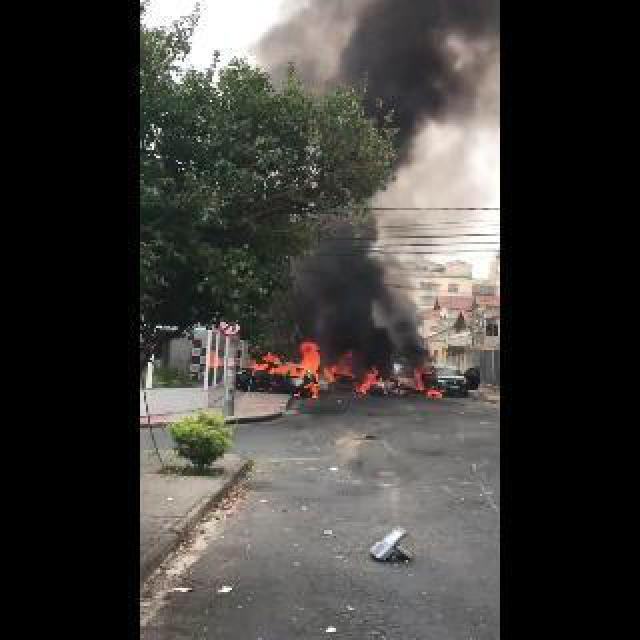fire: (254, 340, 318, 396), (414, 370, 444, 400), (356, 368, 380, 394)
smoke: (254, 0, 503, 145), (284, 225, 444, 356)
